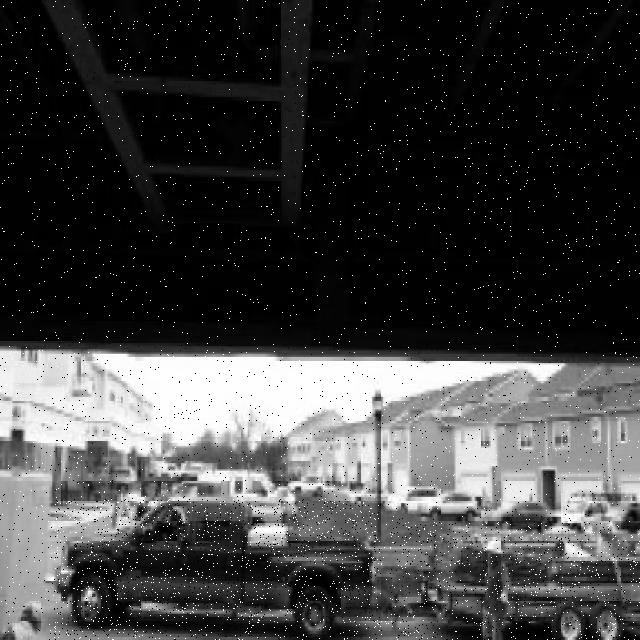Pickup: (53, 499, 382, 640)
Trailer: (390, 522, 640, 640)
